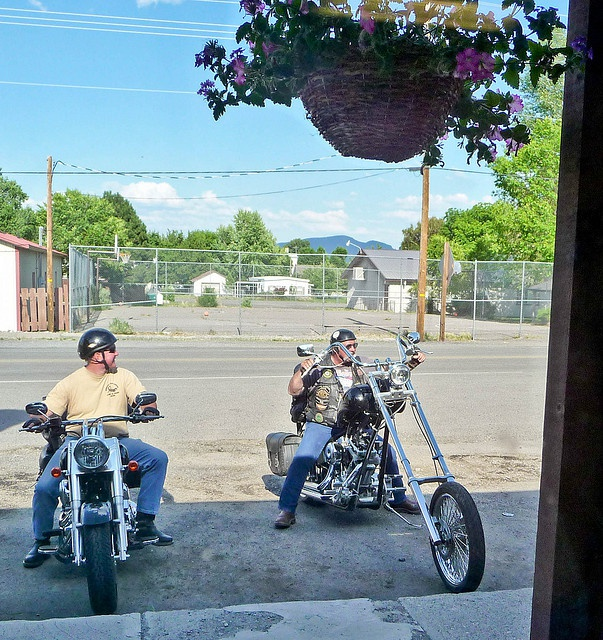non-vehicle: (299, 330, 486, 595), (23, 394, 164, 612)
